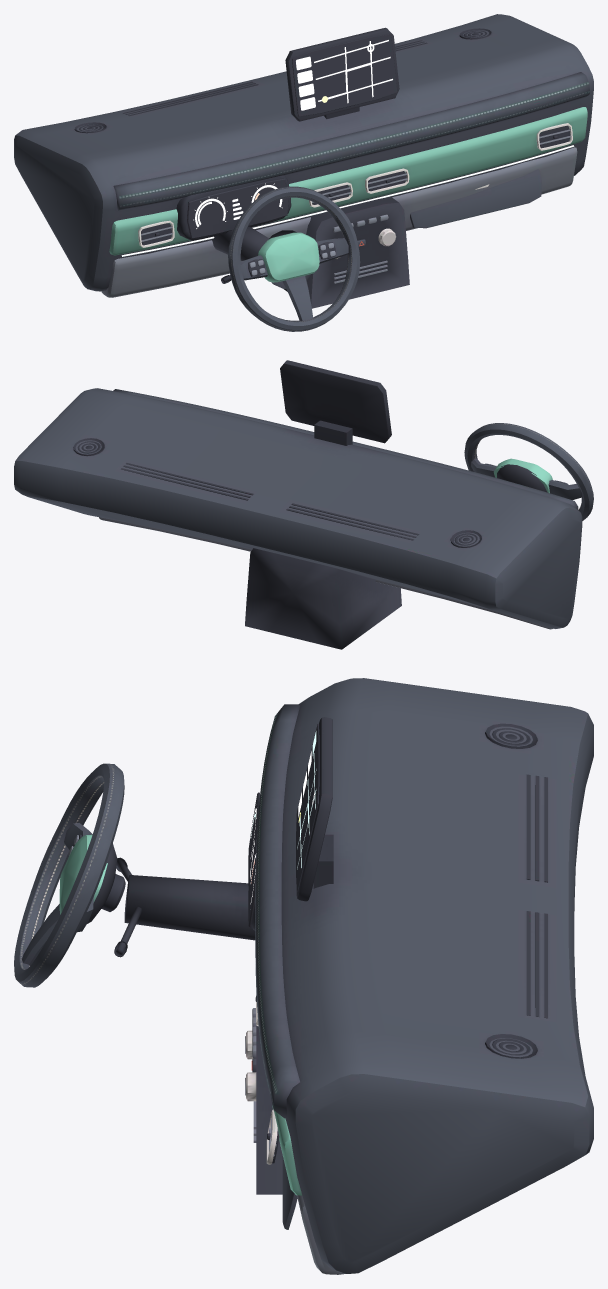
File: car-dashboard.glb
The picture shows the model from 3 angles, top to bottom: view 1: azimuth 30°, elevation 25°; view 2: azimuth 150°, elevation 25°; view 3: azimuth 270°, elevation 25°; orthographic projection. The views are drawn at different scales.
Parts seen in each view (by area): view 1: car-dashboard_body, car-dashboard_steering_wheel, car-dashboard_dash_screen_glow, car-dashboard_dash_ambient_glow, car-dashboard_dash_cluster_glow; view 2: car-dashboard_body, car-dashboard_steering_wheel; view 3: car-dashboard_body, car-dashboard_steering_wheel.
Part boxes in pixels (bbox=[...]): car-dashboard_body: bbox=[14, 14, 593, 308]; car-dashboard_steering_wheel: bbox=[228, 186, 360, 331]; car-dashboard_dash_screen_glow: bbox=[296, 40, 392, 110]; car-dashboard_dash_ambient_glow: bbox=[121, 145, 574, 256]; car-dashboard_dash_cluster_glow: bbox=[193, 183, 282, 228]; car-dashboard_body: bbox=[14, 360, 582, 649]; car-dashboard_steering_wheel: bbox=[464, 423, 593, 520]; car-dashboard_body: bbox=[114, 678, 593, 1274]; car-dashboard_steering_wheel: bbox=[14, 763, 125, 987].
Size of the model in its own units: 1.5 by 0.6963 by 0.9162.
10 materials, 2 textured.
